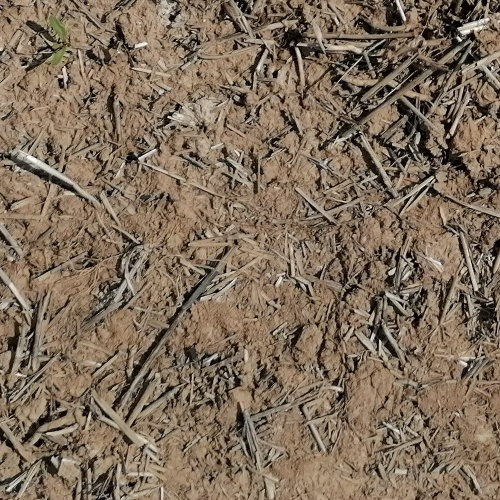beet: (46, 16, 72, 65)
